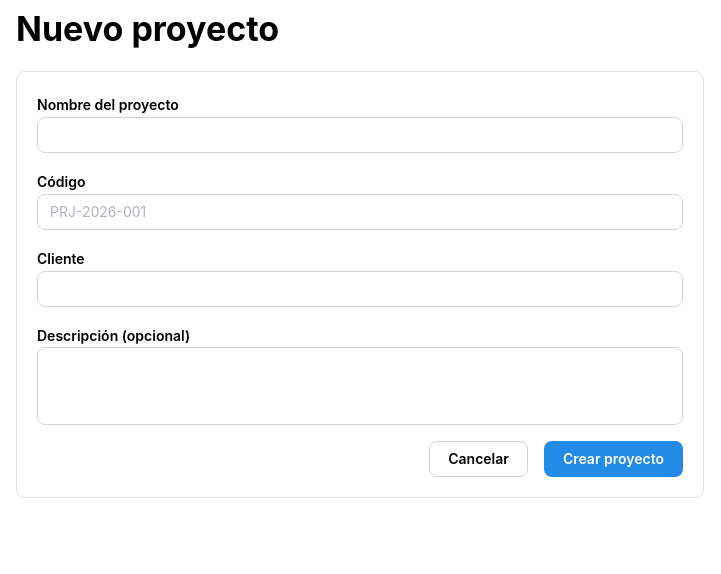
NewProjectPage › no envía y avisa cuando faltan campos obligatorios
The image size is (721, 574).
Click the button "Crear proyecto".
click(613, 459)  # box [544,441,683,477]
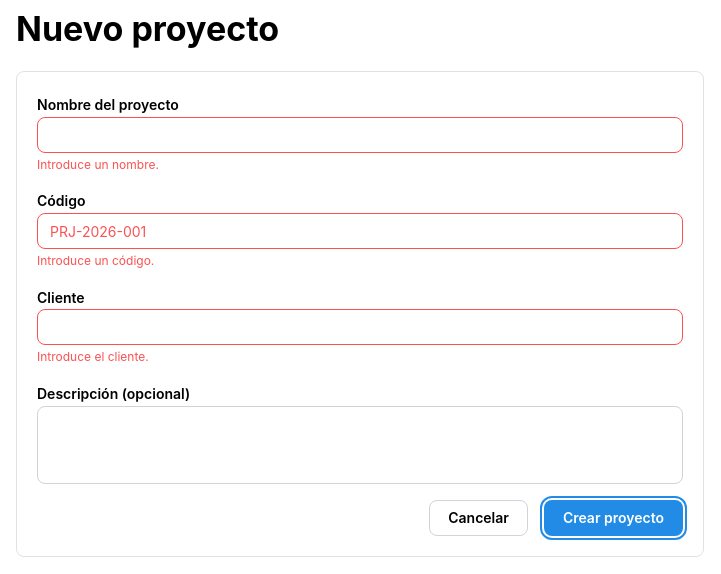
Expected: the text "Introduce un nombre." is shown, [37,157,159,172]
